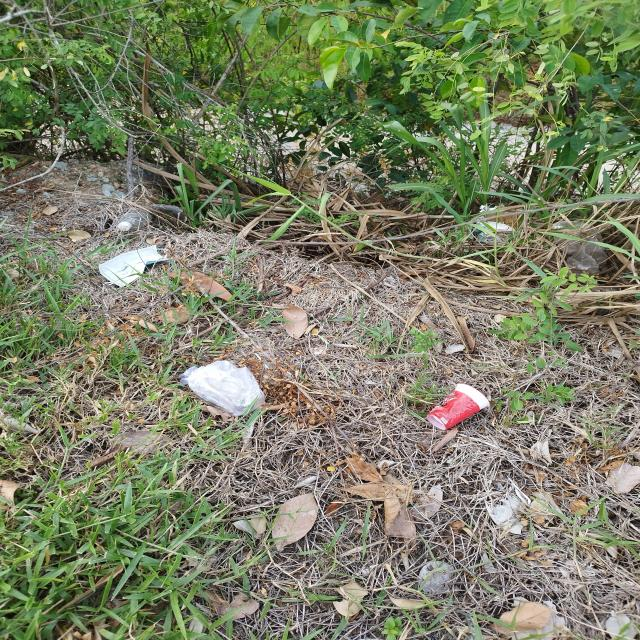bag: (180, 360, 266, 417)
mask: (98, 245, 170, 287)
plastic glass: (426, 382, 491, 430)
